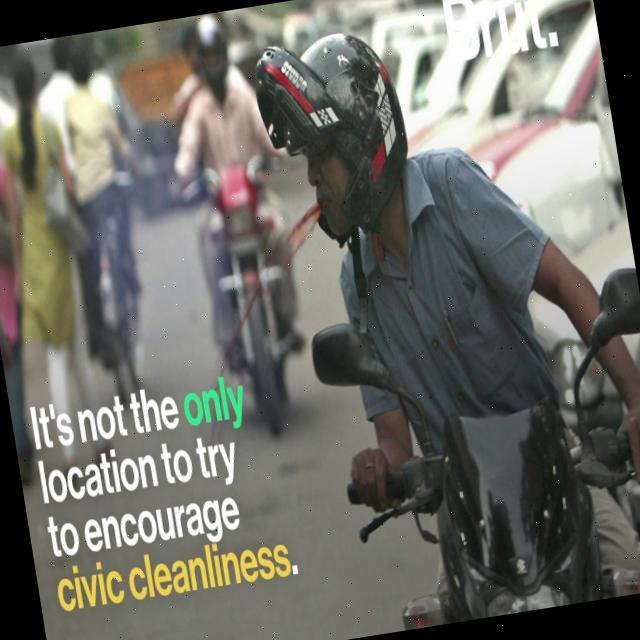spit: (210, 84, 349, 396)
